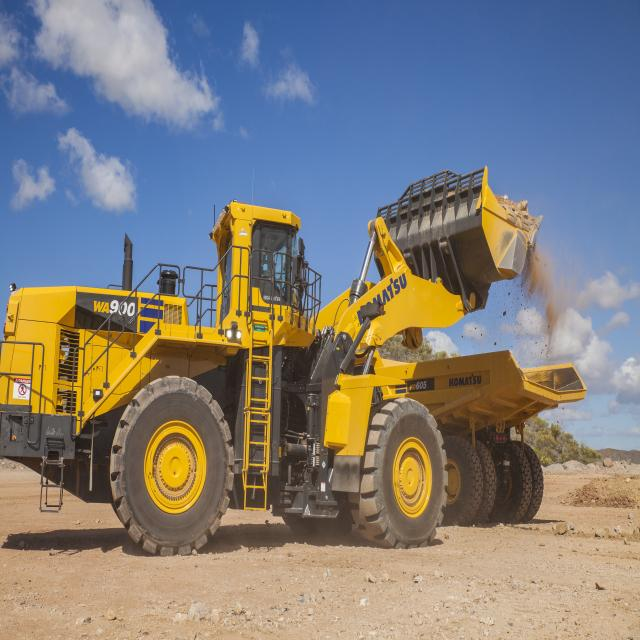buldozerpayloadergrader: (11, 187, 546, 581)
dump_truck: (411, 350, 594, 537)
